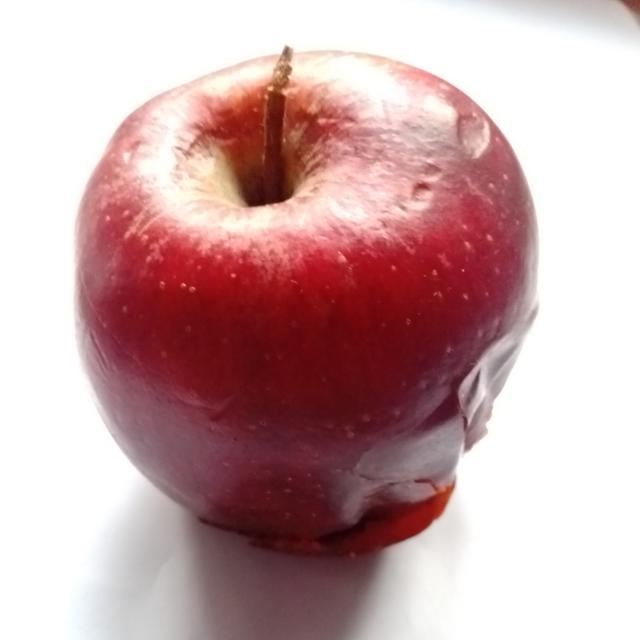apple: (77, 52, 537, 553)
